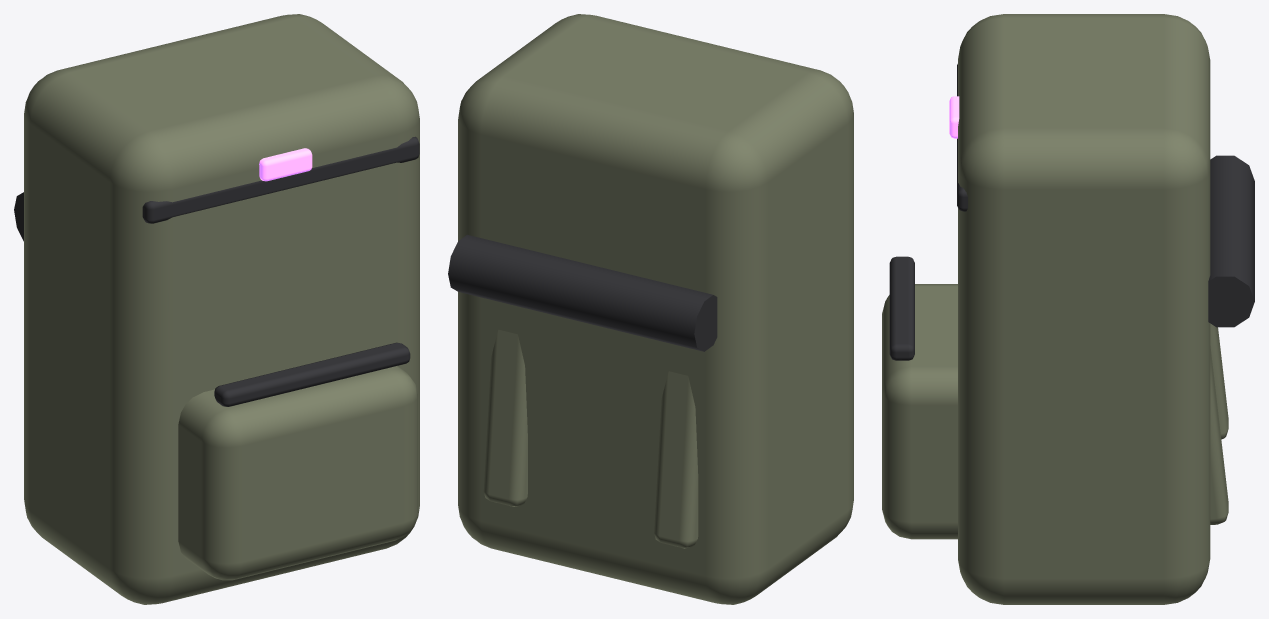
Rendered from battle-royale-town-and-airfield-backpack-large-d4c9f351__28225.glb.
3 renders of one model, left to right at view 1: azimuth 30°, elevation 25°; view 2: azimuth 150°, elevation 25°; view 3: azimuth 270°, elevation 25°, orthographic.
Visible parts, largest first — view 1: backpack-large; view 2: backpack-large; view 3: backpack-large.
Part boxes in pixels (<box>): backpack-large: <box>14,14,419,604</box>; backpack-large: <box>448,14,853,604</box>; backpack-large: <box>882,14,1254,604</box>.
Size of the model in its own units: 0.42 by 0.62 by 0.443.
